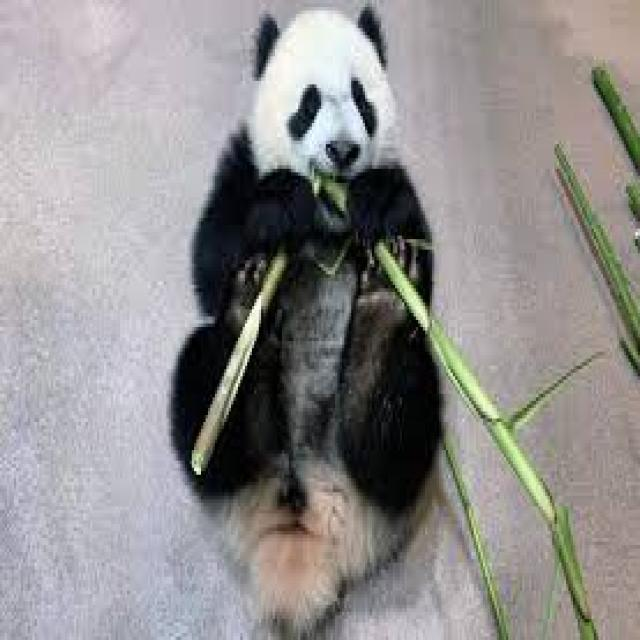Panda: (164, 2, 465, 640)
